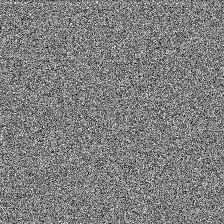cavities: (99, 65, 175, 129)
